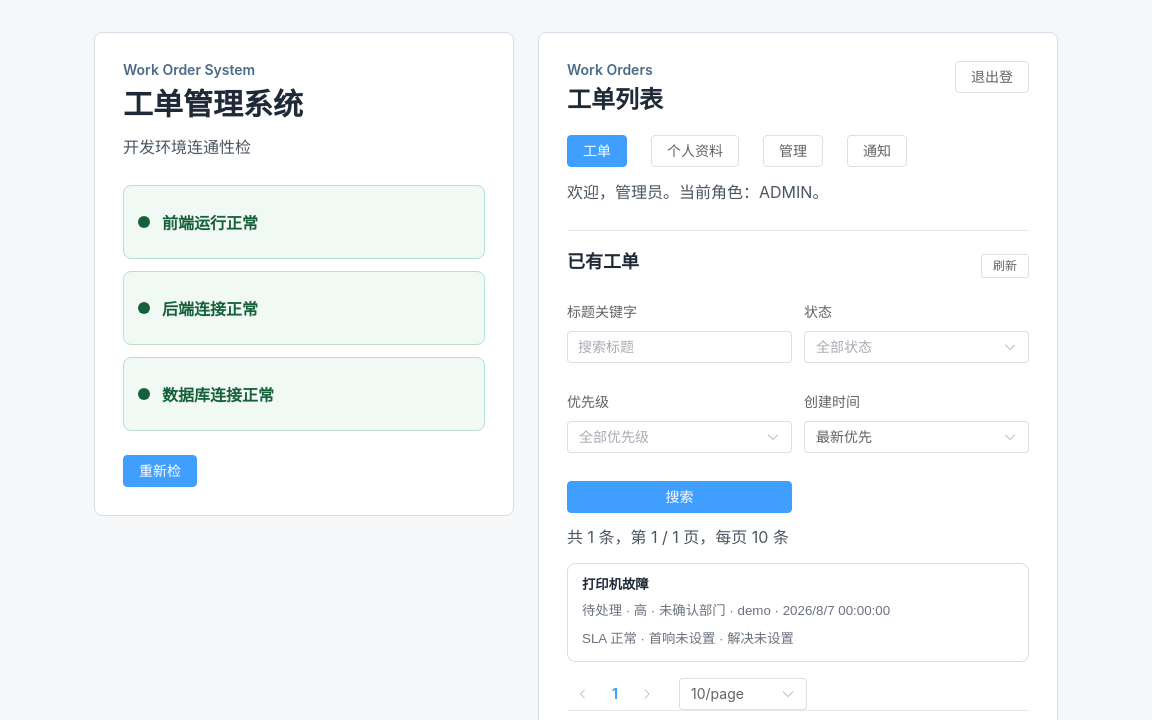
App › loads work order statistics when opening the admin page
The image size is (1152, 720).
Click the button "管理" at [793, 151], box [763,135,823,167]
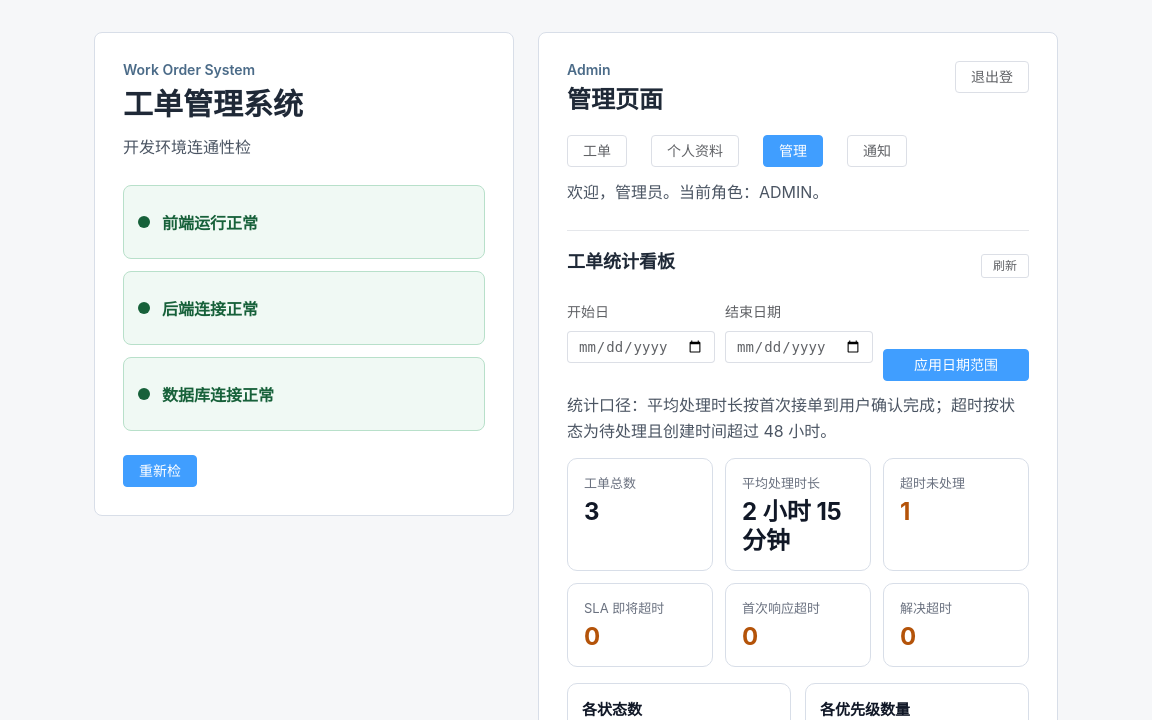
expect the text "工单统计看板" is shown: met, box [567,247,675,273]
expect the text "工单总数" is shown: met, box [584,475,636,491]
expect the text "平均处理时长" is shown: met, box [567,395,1015,441]
